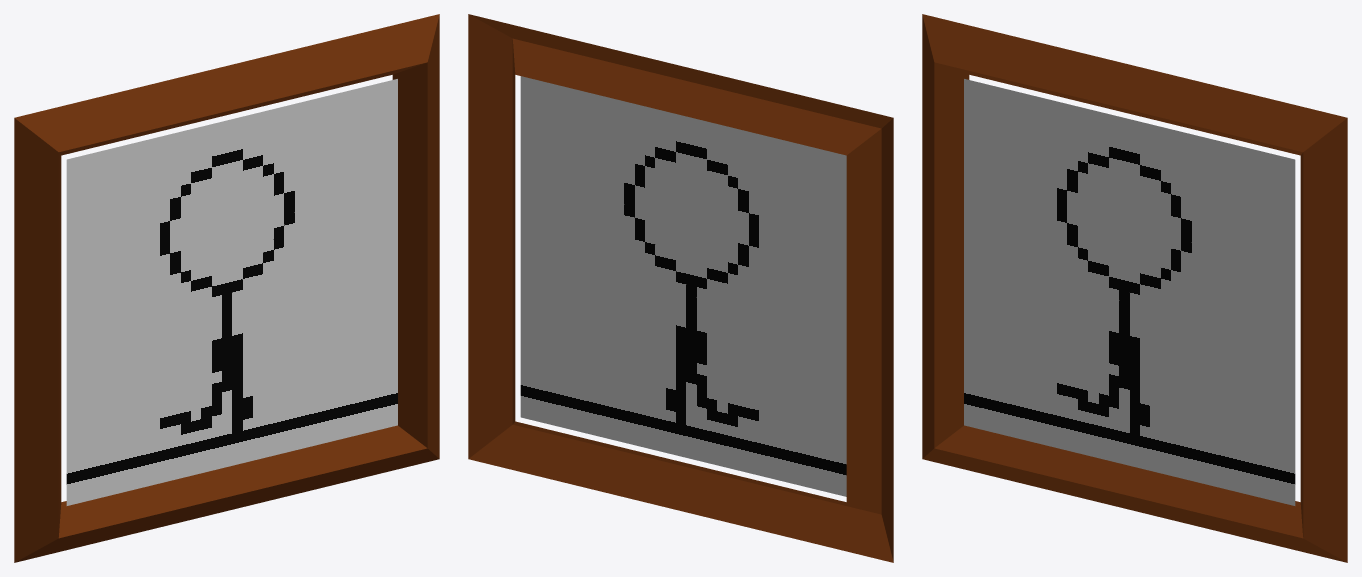
Rendered from walkPainting1.glb.
3 renders of one model, left to right at view 1: azimuth 30°, elevation 25°; view 2: azimuth 150°, elevation 25°; view 3: azimuth 330°, elevation 25°, orthographic.
Parts seen in each view (by area): view 1: Canvas.001, Frame.004; view 2: Canvas.001, Frame.004; view 3: Canvas.001, Frame.004.
Part boxes in pixels (x1,y1,x2,y2): Canvas.001: (66, 79, 397, 505); Frame.004: (14, 14, 439, 562); Canvas.001: (520, 76, 846, 496); Frame.004: (468, 14, 893, 562); Canvas.001: (964, 79, 1295, 505); Frame.004: (922, 14, 1347, 562).
Bounding box in the file's own units: 1.28 × 1.28 × 0.0849.
Materials: 2 (1 with a texture image).
